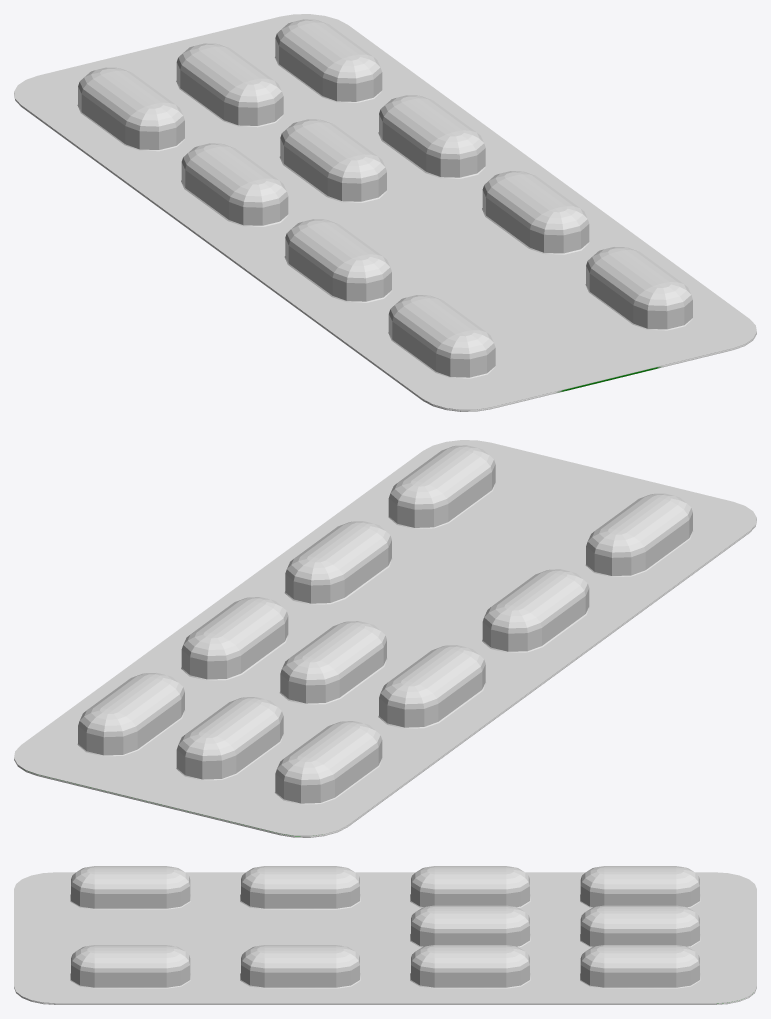
Rendered from rv_med_1.obj.
3 renders of one model, top to bottom at view 1: azimuth 30°, elevation 25°; view 2: azimuth 150°, elevation 25°; view 3: azimuth 270°, elevation 25°, orthographic. The views are drawn at different scales.
Visible parts, largest first — view 1: Casing Med_1_grp, Med_1_grp Body; view 2: Casing Med_1_grp, Med_1_grp Body; view 3: Casing Med_1_grp, Med_1_grp Body.
Part boxes in pixels (x1=…): Casing Med_1_grp: x1=14, y1=14, x2=756, y2=410; Med_1_grp Body: x1=14, y1=93, x2=756, y2=411; Casing Med_1_grp: x1=14, y1=440, x2=756, y2=836; Med_1_grp Body: x1=14, y1=519, x2=756, y2=837; Casing Med_1_grp: x1=14, y1=866, x2=756, y2=1003; Med_1_grp Body: x1=14, y1=987, x2=756, y2=1004.
Bounding box in the file's own units: 14.55 × 1.54 × 34.88.
3 materials, 2 textured.
